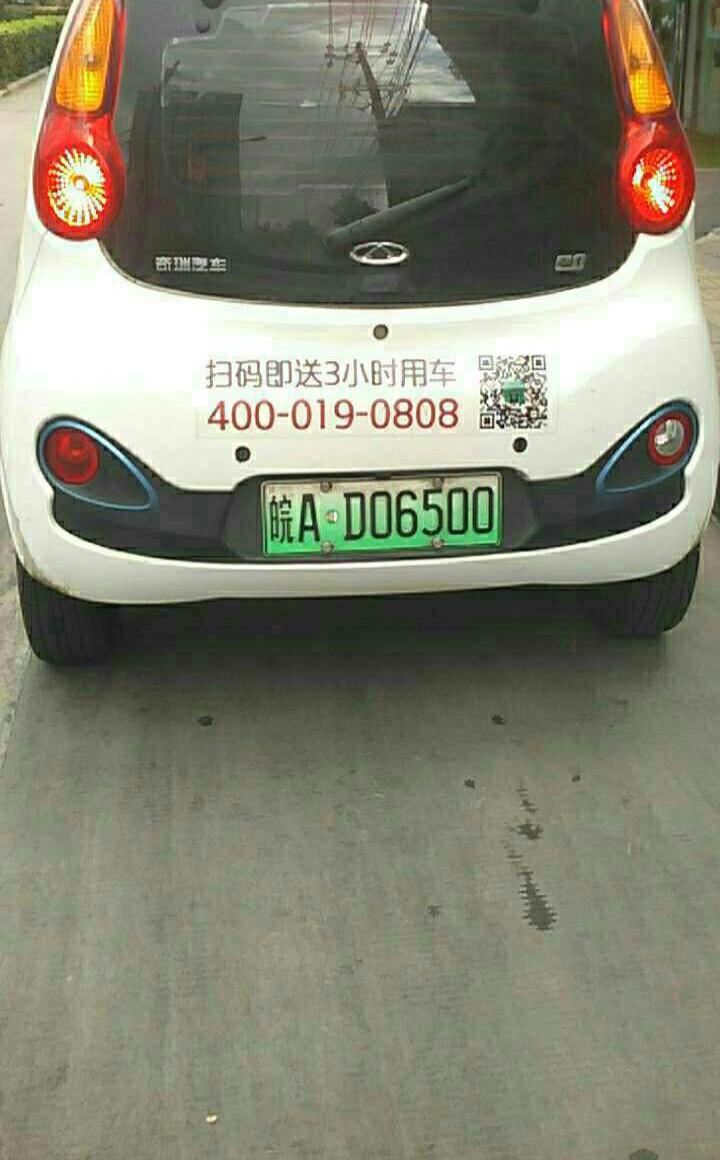car_id: (255, 476, 506, 555)
